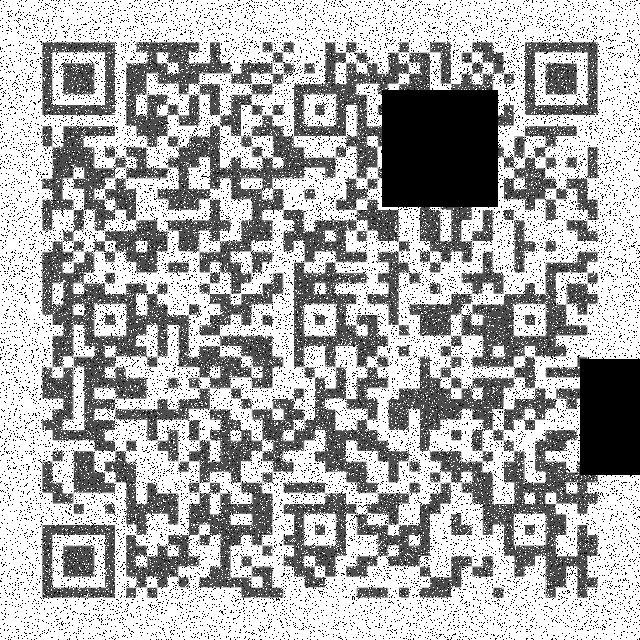QR_CODE: (29, 32, 609, 610)
